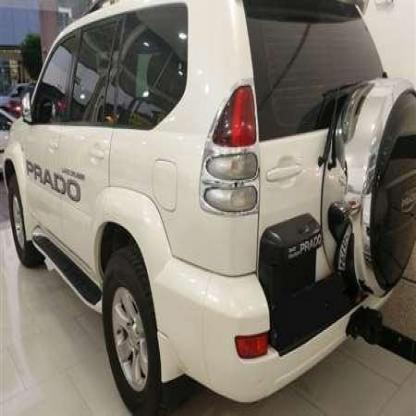Car: (0, 0, 416, 391)
